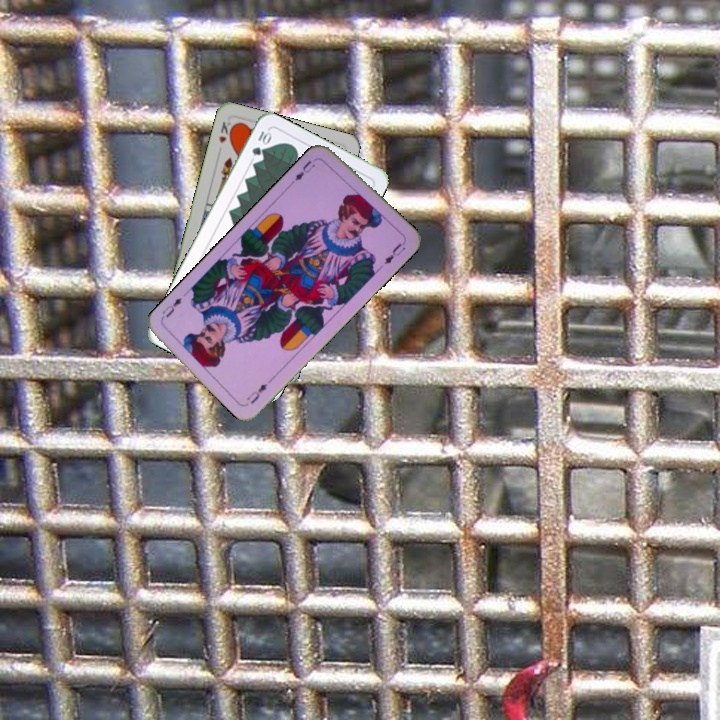EU: (243, 374, 276, 407), (287, 156, 318, 186)
G10: (248, 127, 273, 158)
HK: (215, 117, 231, 146)
